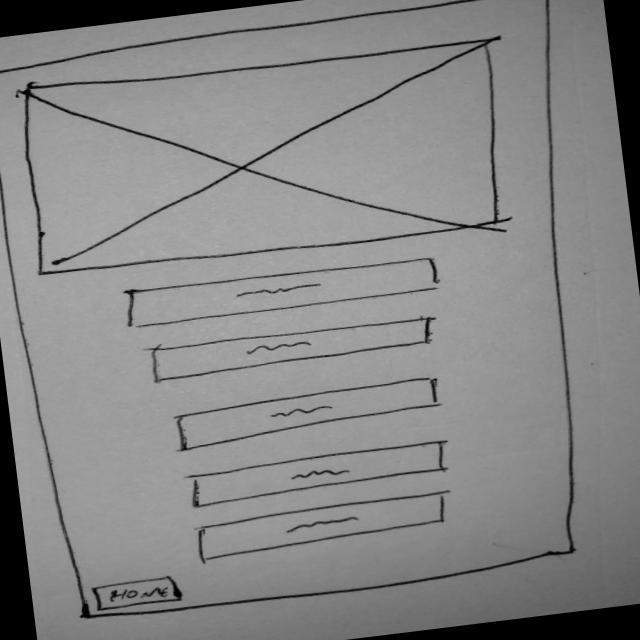button: (90, 570, 189, 615)
container: (1, 1, 640, 639)
image: (1, 23, 540, 295)
input: (118, 249, 450, 335), (156, 375, 457, 456), (135, 310, 450, 387), (175, 436, 468, 515), (191, 489, 466, 566)
